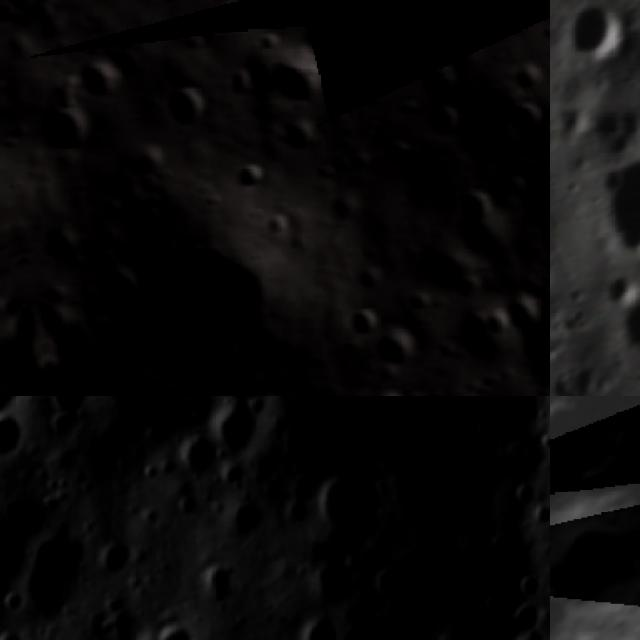crater: (550, 481, 640, 622), (16, 530, 100, 628), (312, 471, 383, 547), (592, 153, 640, 264), (274, 35, 331, 117), (564, 0, 629, 65), (206, 396, 264, 464), (38, 97, 96, 157), (517, 290, 550, 393), (76, 48, 139, 101), (211, 494, 273, 544), (376, 324, 427, 382), (166, 434, 220, 488), (588, 103, 640, 159), (309, 559, 363, 610), (162, 84, 207, 134), (138, 607, 203, 640), (198, 561, 240, 610), (338, 300, 385, 340), (98, 539, 138, 584), (0, 414, 32, 468), (563, 358, 608, 395), (502, 602, 546, 639), (551, 371, 614, 396), (274, 494, 311, 534), (428, 96, 463, 138), (489, 616, 550, 640), (44, 412, 84, 446), (38, 396, 99, 417), (234, 151, 268, 187), (507, 62, 545, 92), (507, 100, 539, 135), (299, 617, 347, 640), (263, 207, 294, 239), (459, 186, 488, 220), (352, 260, 382, 292), (510, 484, 540, 511), (2, 587, 26, 619), (529, 500, 550, 534), (316, 159, 338, 184), (0, 625, 36, 640), (138, 172, 160, 193), (541, 19, 550, 40)
